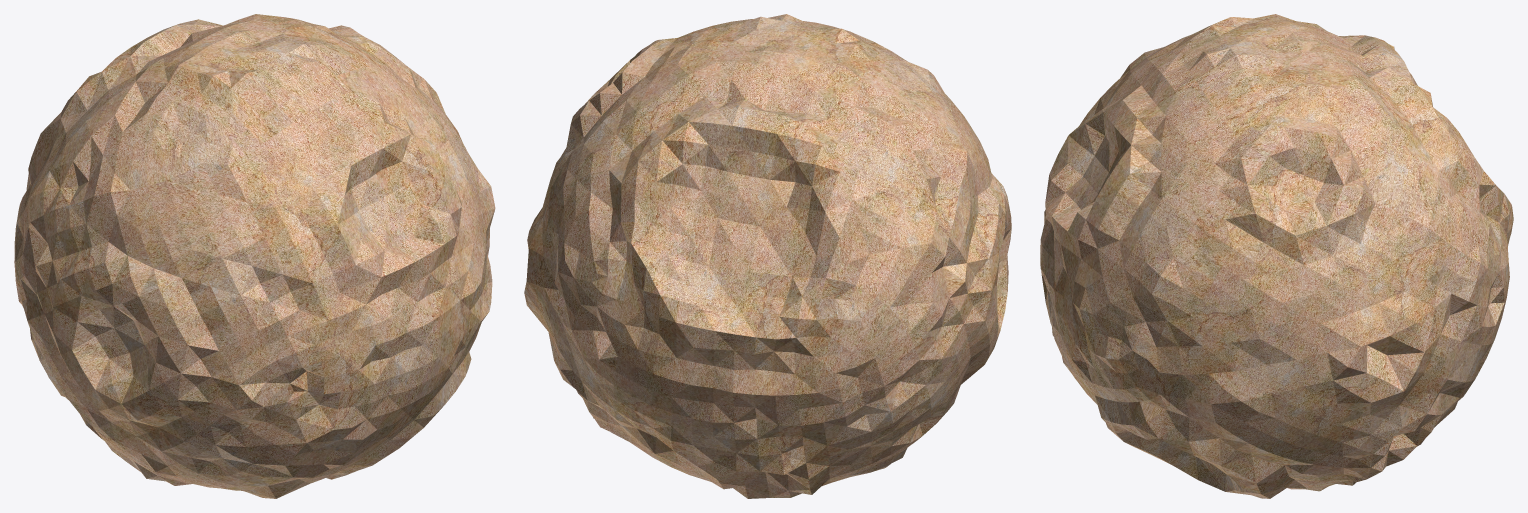
Rendered from RelayPlanetA.dae.
3 views of the same model, side by side, from view 1: azimuth 30°, elevation 25°; view 2: azimuth 150°, elevation 25°; view 3: azimuth 270°, elevation 25° (orthographic).
Parts seen in each view (by area): view 1: m0; view 2: m0; view 3: m0.
Boxes of the visible parts, box(x1,y1,x2,y2) form: m0: box(14, 14, 495, 498); m0: box(524, 14, 1011, 498); m0: box(1040, 14, 1513, 498).
Size of the model in its own units: 205 by 205 by 203.
Materials: 1 (1 with a texture image).
